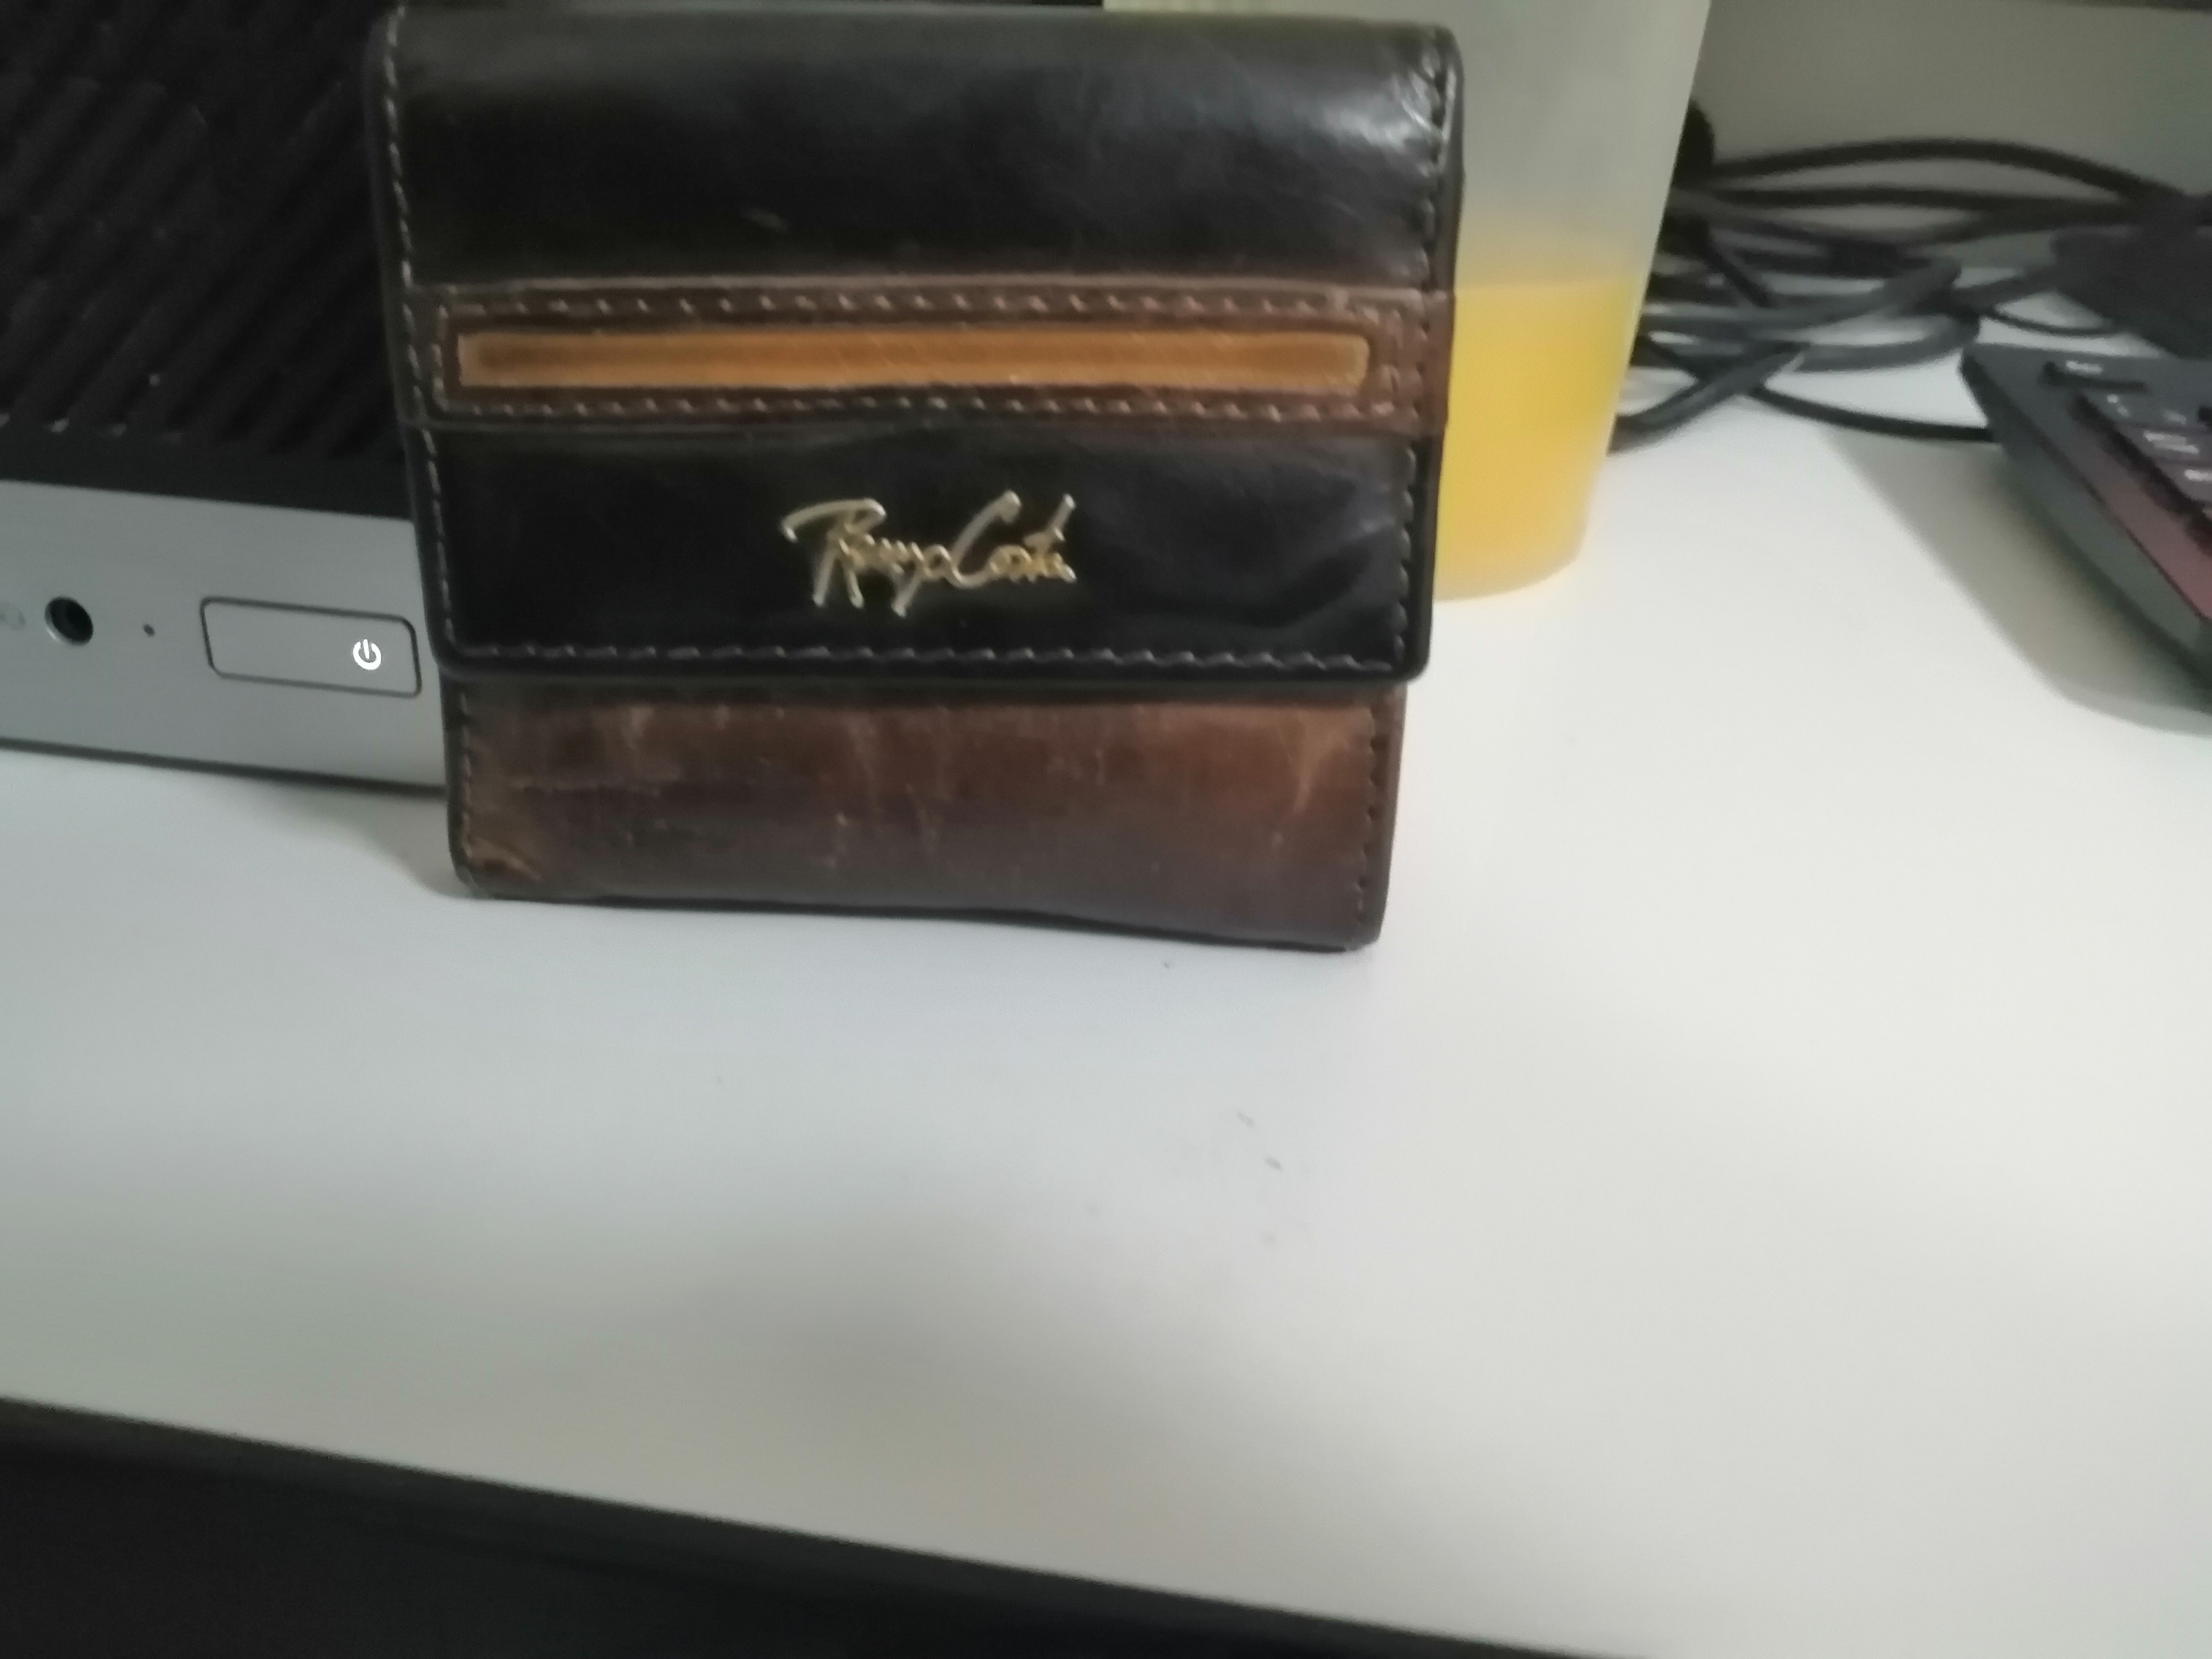monedero: (364, 2, 1503, 1000)
